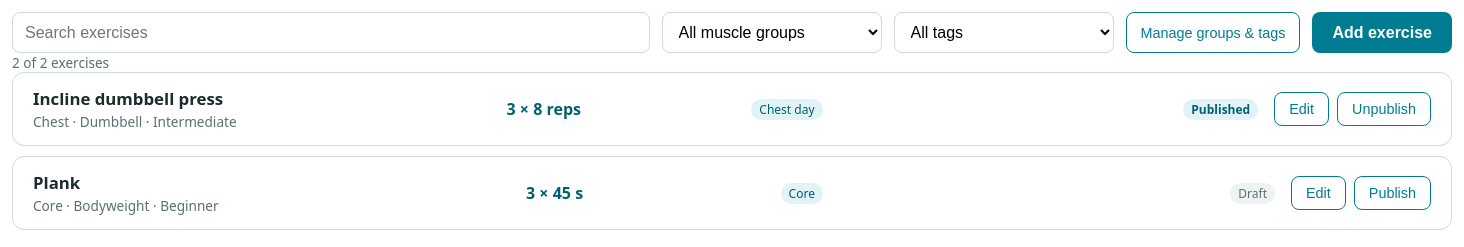
Scenario: ExercisesPage list › filters by search, muscle group and tag
expect the heading "Plank" is shown: met, box left=33, top=171, right=80, bottom=194
Select "Chest" in the dropdown named "Filter by muscle group" at (772, 32), box left=662, top=12, right=882, bottom=53
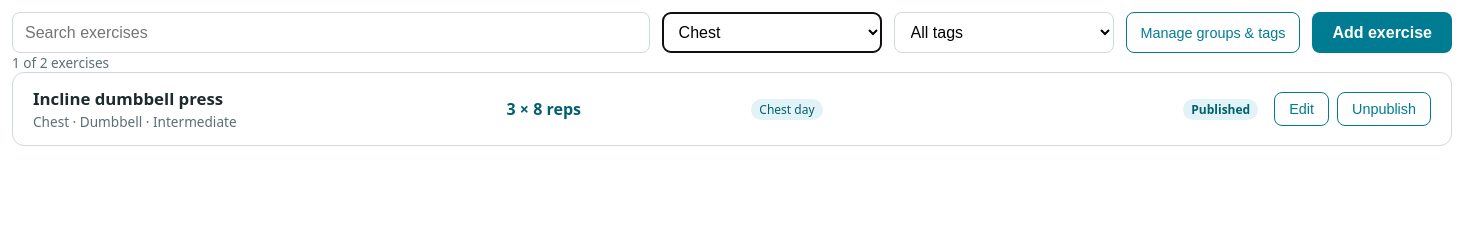
expect the heading "Plank" is gone: met
expect the text "1 of 2 exercises" is shown: met, box left=12, top=53, right=109, bottom=72
Select "All muscle groups" in the dropdown named "Filter by muscle group" at (772, 32), box left=662, top=12, right=882, bottom=53
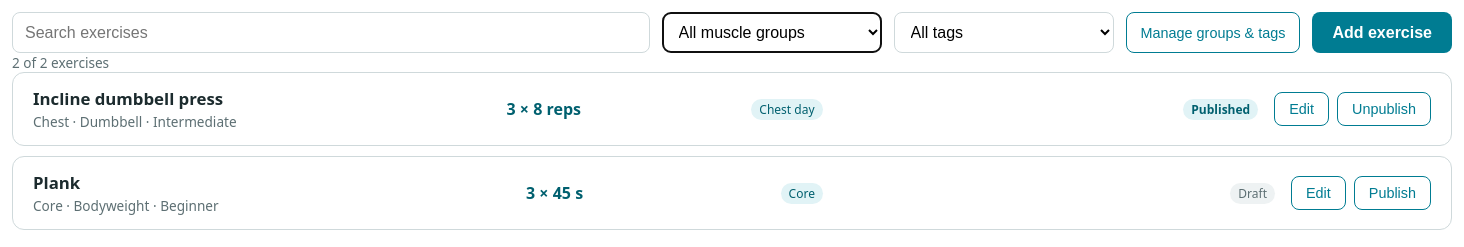
Select "Core" in the dropdown named "Filter by tag" at (1004, 32), box left=894, top=12, right=1114, bottom=53
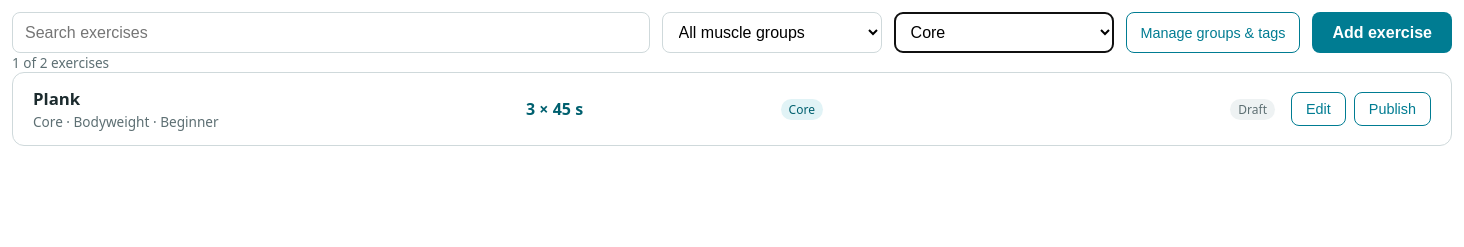
expect the heading "Incline dumbbell press" is gone: met
Select "All tags" in the dropdown named "Filter by tag" at (1004, 32), box left=894, top=12, right=1114, bottom=53
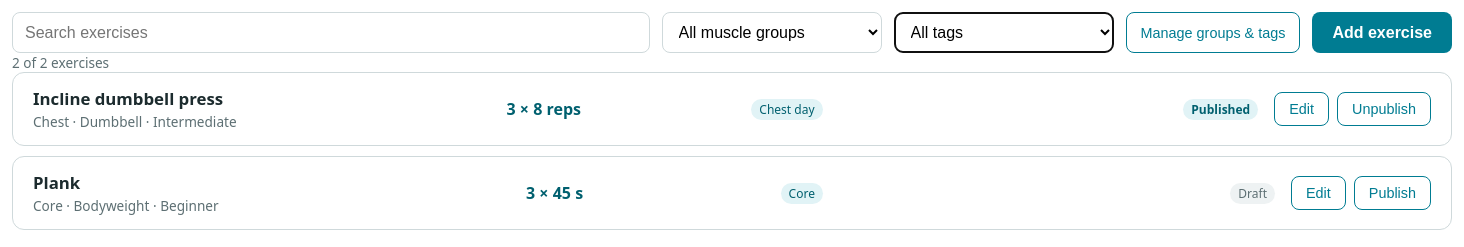
Type "dumbbell" into the search field labelled "Search exercises" at (331, 32), box left=12, top=12, right=650, bottom=53
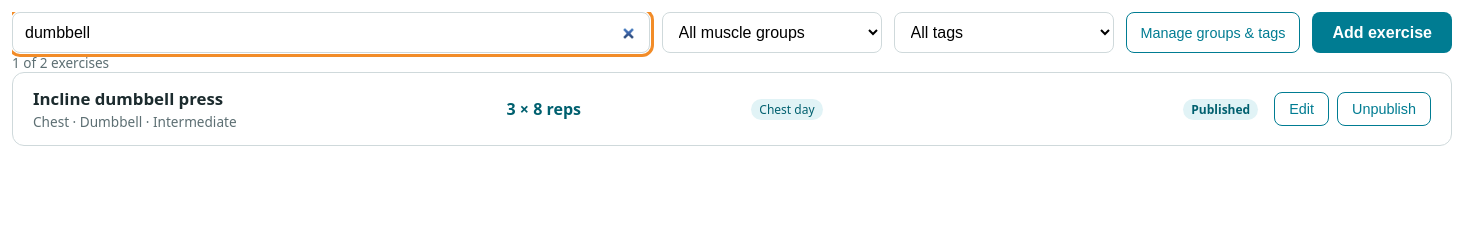
expect the heading "Incline dumbbell press" is shown: met, box left=33, top=87, right=223, bottom=110
expect the heading "Plank" is gone: met
